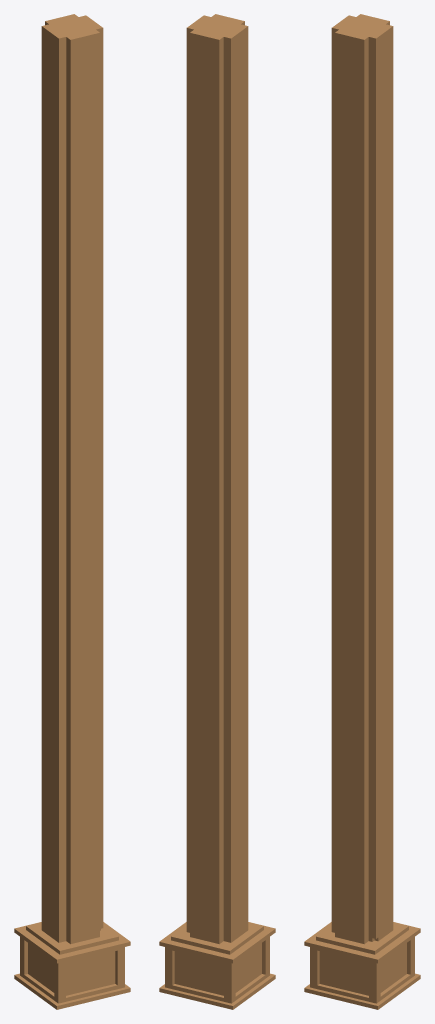
File: column-3.obj
The picture shows the model from 3 angles, left to right: view 1: azimuth 30°, elevation 25°; view 2: azimuth 150°, elevation 25°; view 3: azimuth 330°, elevation 25°; orthographic projection.
Size of the model in its own units: 2 by 24.8 by 2.
Materials: 1 (1 with a texture image).
